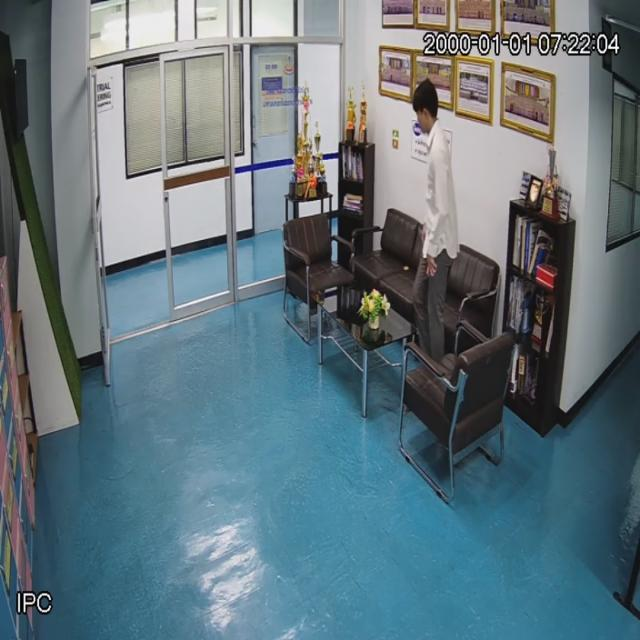normal: (402, 73, 458, 371)
